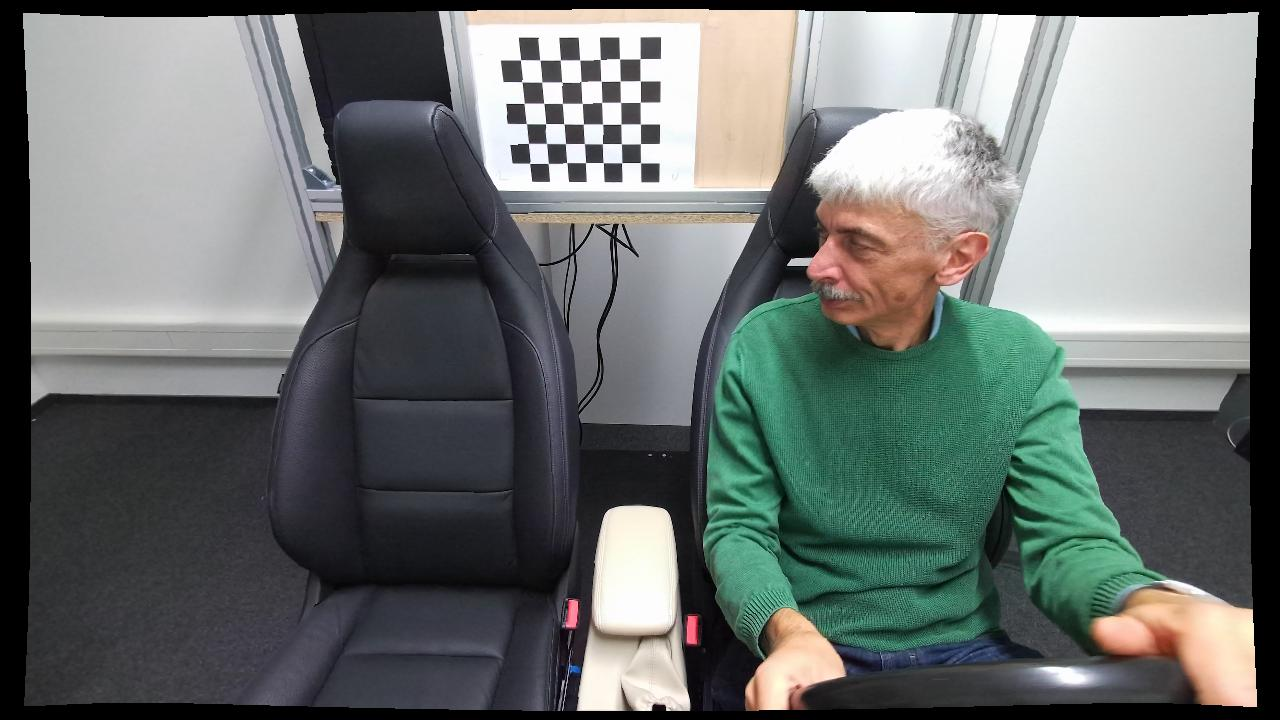Distracted: (702, 104, 1133, 715)
